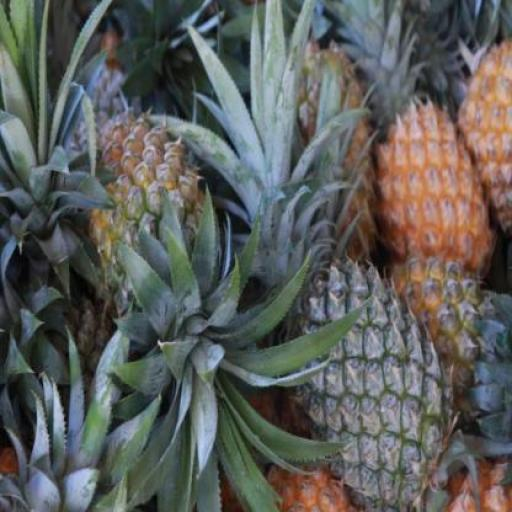------------------------------: (72, 114, 210, 325)
Pineapple - v8 v1: (373, 101, 487, 282)
